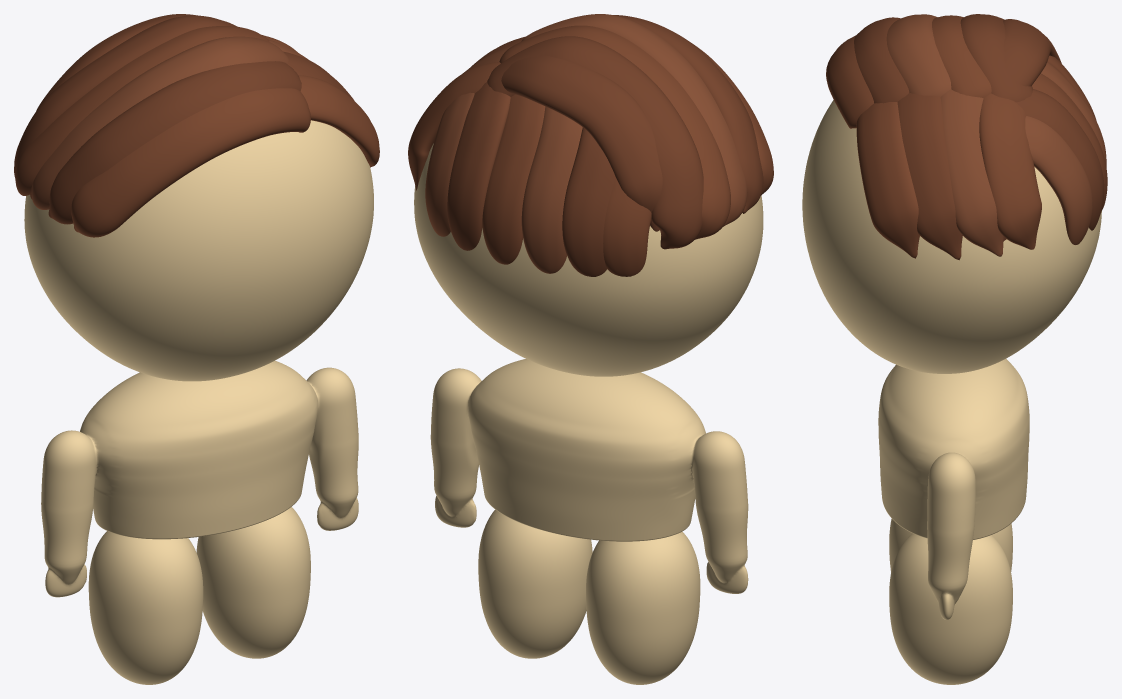
File: Masculine-hands-paddle-base.glb
3 views of the same model, side by side, from view 1: azimuth 30°, elevation 25°; view 2: azimuth 150°, elevation 25°; view 3: azimuth 270°, elevation 25° (orthographic).
Parts seen in each view (by area): view 1: Skin / soft oval head, Skin / rounded torso, Skin / leg blob -1, Skin / leg blob 1, Hair / Side part main 0, Hair / Side part main 1, Hair / Side part main 2, Hair / Side part main 3, Hair / Side part main 4, Hair / Side part short 0, Hair / Side part crown, Hair / Side part short 1; view 2: Skin / rounded torso, Skin / soft oval head, Skin / leg blob -1, Skin / leg blob 1, Hair / Side part crown, Hair / Side part main 4, Hair / Side part nape 2, Hair / Side part main 3, Hair / Side part nape 3, Hair / Side part nape 4, Hair / Side part main 2, Hair / Side part nape 1 (+5 smaller); view 3: Skin / soft oval head, Skin / rounded torso, Skin / leg blob 1, Hair / Side part short 3, Hair / Side part short 0, Hair / Side part short 1, Hair / Side part short 2, Hair / Side part nape 5, Hair / Side part main 2, Hair / Side part nape 4, Hair / Side part main 4, Hair / Side part main 1 (+6 smaller).
Boxes of the visible parts, bbox=[...] form: Skin / soft oval head: bbox=[24, 120, 373, 381]; Skin / rounded torso: bbox=[41, 360, 358, 597]; Skin / leg blob -1: bbox=[88, 531, 203, 684]; Skin / leg blob 1: bbox=[196, 507, 310, 658]; Hair / Side part main 0: bbox=[71, 88, 310, 237]; Hair / Side part main 1: bbox=[48, 61, 301, 224]; Hair / Side part main 2: bbox=[31, 36, 288, 209]; Hair / Side part main 3: bbox=[15, 26, 269, 195]; Hair / Side part main 4: bbox=[14, 15, 236, 177]; Hair / Side part short 0: bbox=[298, 75, 379, 167]; Hair / Side part crown: bbox=[36, 14, 197, 110]; Hair / Side part short 1: bbox=[283, 51, 354, 100]; Skin / rounded torso: bbox=[430, 359, 748, 593]; Skin / soft oval head: bbox=[414, 143, 763, 376]; Skin / leg blob -1: bbox=[586, 531, 700, 684]; Skin / leg blob 1: bbox=[478, 509, 592, 658]; Hair / Side part crown: bbox=[501, 55, 662, 231]; Hair / Side part main 4: bbox=[487, 36, 703, 249]; Hair / Side part nape 2: bbox=[521, 106, 582, 273]; Hair / Side part main 3: bbox=[499, 25, 730, 239]; Hair / Side part nape 3: bbox=[482, 94, 545, 264]; Hair / Side part nape 4: bbox=[447, 82, 510, 250]; Hair / Side part main 2: bbox=[521, 14, 747, 226]; Hair / Side part nape 1: bbox=[562, 127, 615, 276]; Skin / soft oval head: bbox=[802, 100, 1101, 373]; Skin / rounded torso: bbox=[878, 359, 1029, 619]; Skin / leg blob 1: bbox=[889, 533, 1012, 684]; Hair / Side part short 3: bbox=[979, 93, 1041, 249]; Hair / Side part short 0: bbox=[856, 102, 919, 258]; Hair / Side part short 1: bbox=[897, 93, 962, 260]; Hair / Side part short 2: bbox=[940, 89, 1003, 256]; Hair / Side part nape 5: bbox=[1025, 116, 1092, 244]; Hair / Side part main 2: bbox=[886, 14, 951, 96]; Hair / Side part nape 4: bbox=[1016, 89, 1104, 230]; Hair / Side part main 4: bbox=[960, 14, 1032, 102]; Hair / Side part main 1: bbox=[854, 17, 909, 103].
Bounding box in the file's own units: 0.9754 × 1.87 × 0.825.
